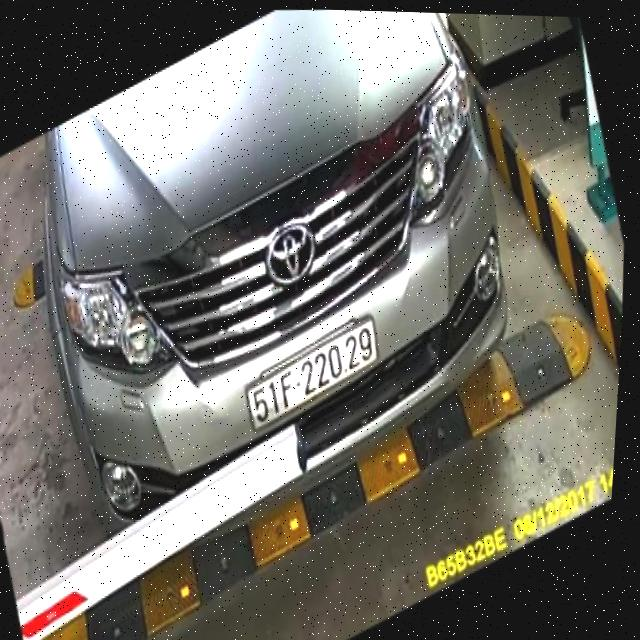car: (11, 1, 539, 567)
plate: (236, 311, 388, 440)
